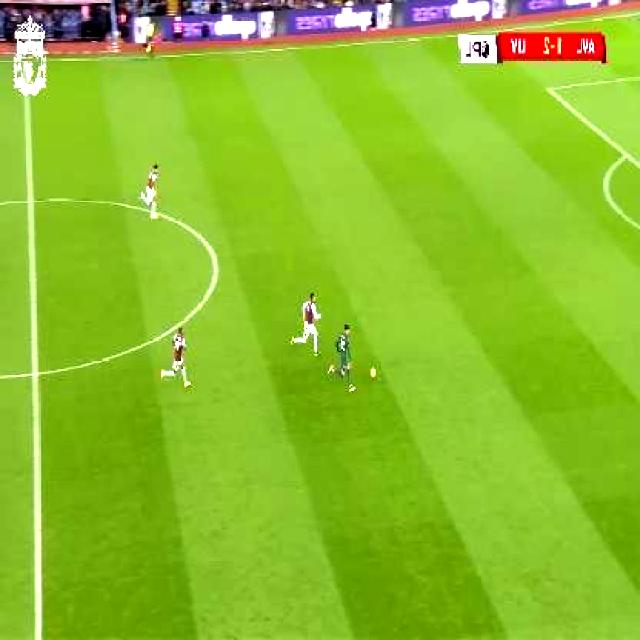bigarea_top_inner: (542, 77, 558, 100)
halfcircle_bottom: (23, 354, 49, 389)
halfcircle_top: (20, 186, 42, 214)
top_arc_area_intersection: (620, 143, 635, 163)
